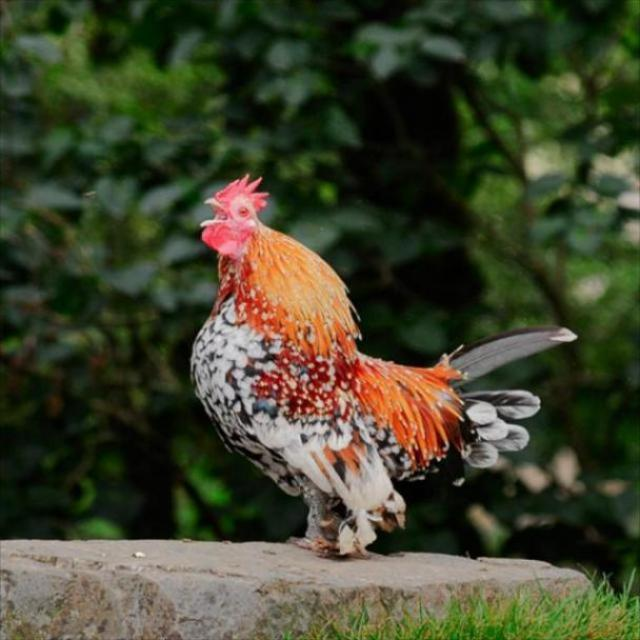Chicken: (210, 162, 554, 550)
